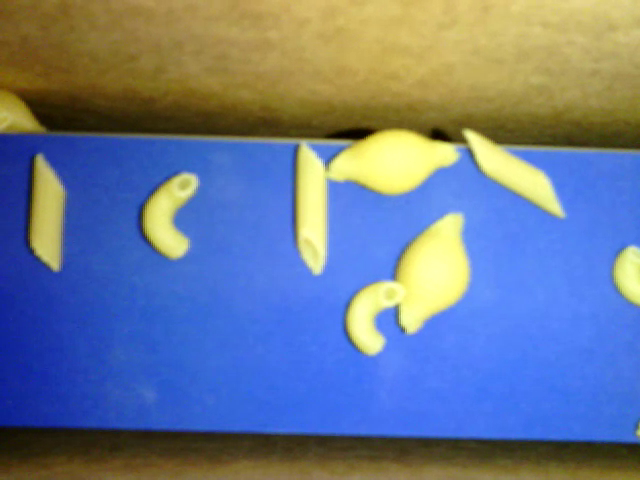elbow: (139, 172, 196, 258), (345, 279, 405, 357), (610, 242, 639, 309)
penne: (457, 126, 568, 217), (295, 139, 328, 278), (28, 151, 63, 271)
shell: (1, 90, 54, 134)
tortellini: (328, 126, 460, 199), (397, 211, 469, 332)
